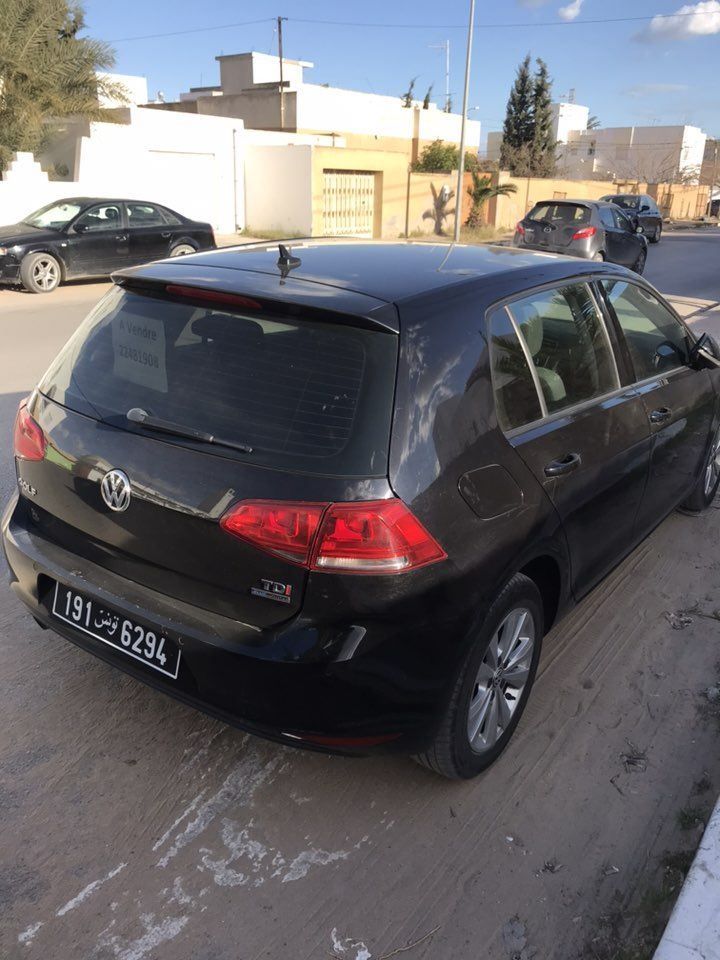LP: (49, 578, 180, 681)
